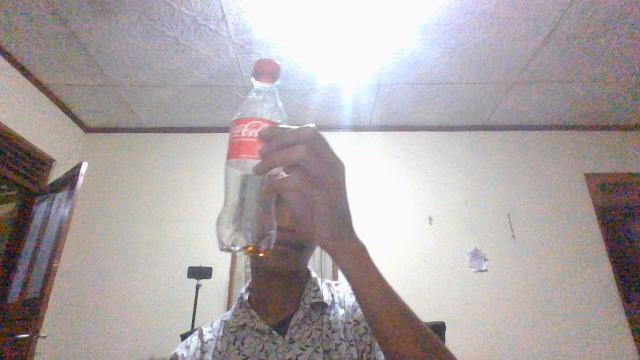coca-cola: (214, 57, 290, 257)
